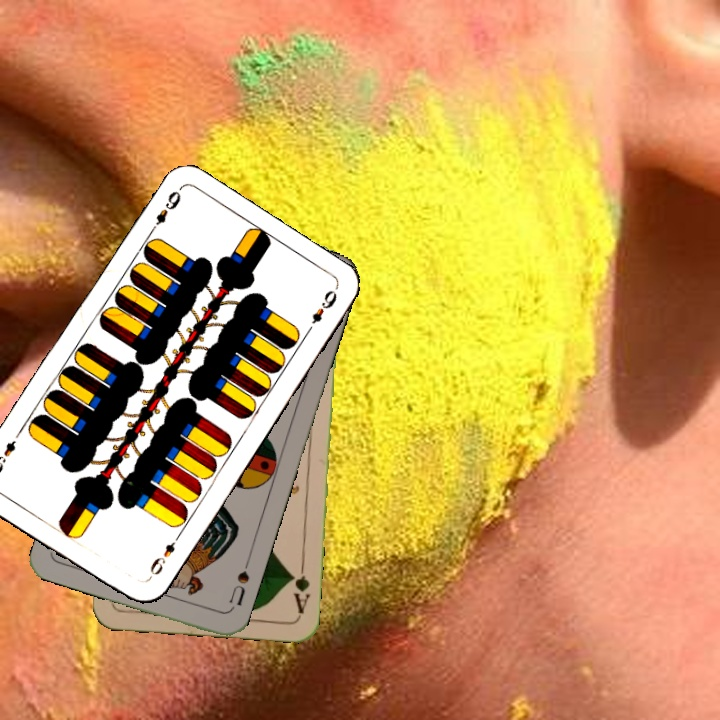E9: (144, 530, 183, 582), (145, 185, 184, 237)
GA: (287, 558, 313, 617)
SU: (225, 556, 253, 613)
